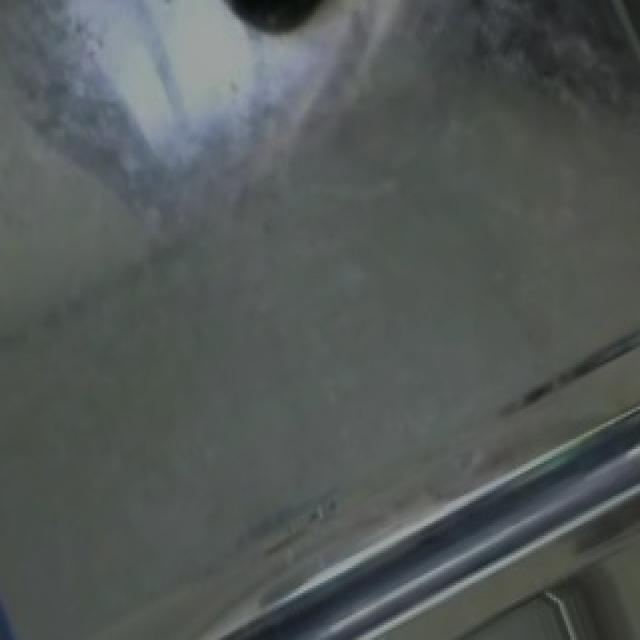Fruit: (210, 0, 366, 40)
